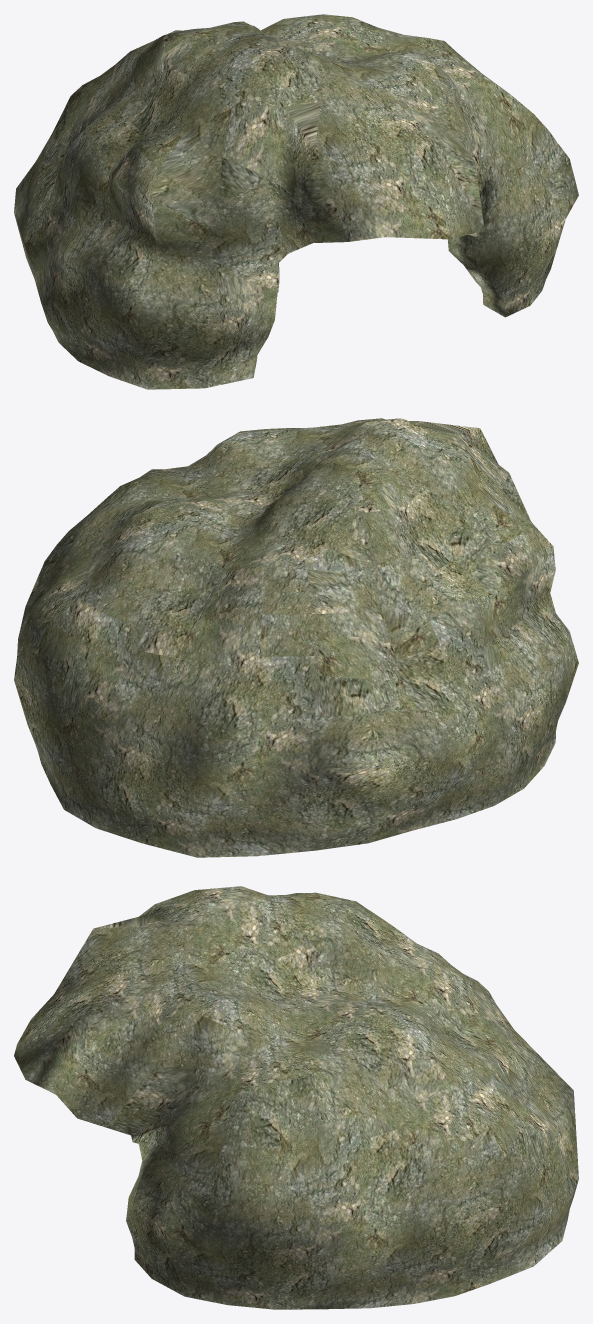
File: Den.gltf
3 views of the same model, one above another, from view 1: azimuth 30°, elevation 25°; view 2: azimuth 150°, elevation 25°; view 3: azimuth 270°, elevation 25° (orthographic). The views are drawn at different scales.
Visible parts, largest first — view 1: Den; view 2: Den; view 3: Den.
Boxes of the visible parts, <box> form: Den: <box>14,14,578,389</box>; Den: <box>14,418,578,857</box>; Den: <box>14,886,578,1309</box>.
Size of the model in its own units: 73.42 by 43.47 by 75.01.
Materials: 1 (1 with a texture image).
